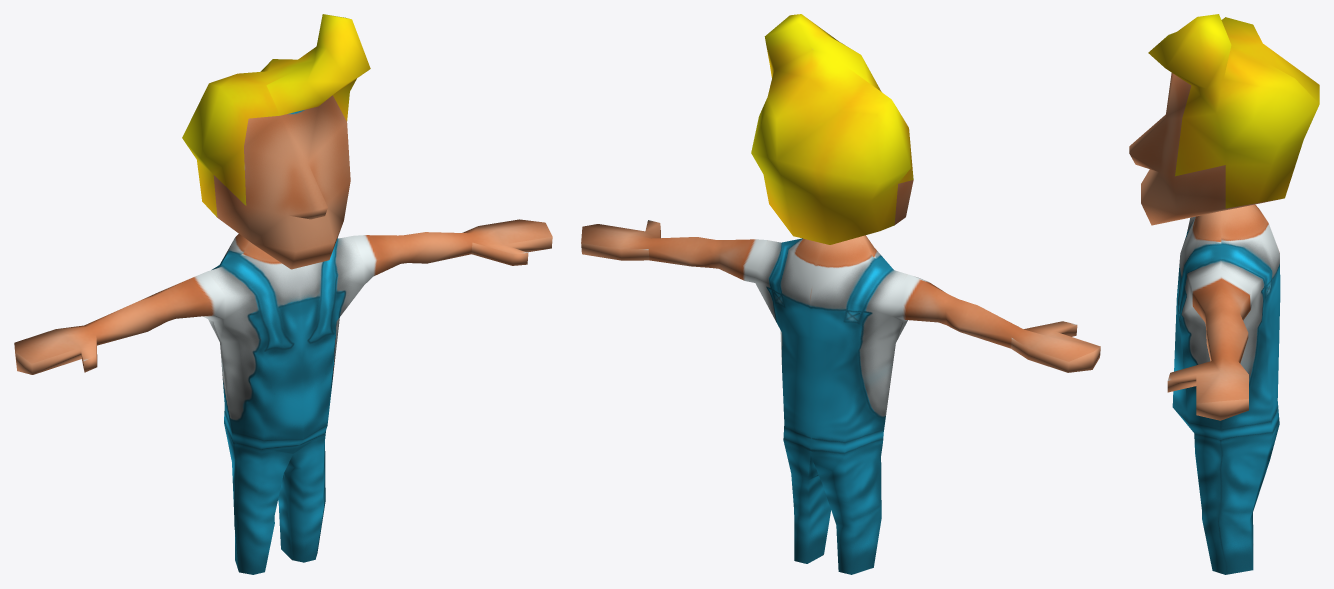
Rendered from HD_Family_Daddy_1x1_Mesh_Tekstur_001.FBX.
The picture shows the model from 3 angles, left to right: view 1: azimuth 30°, elevation 25°; view 2: azimuth 150°, elevation 25°; view 3: azimuth 270°, elevation 25°; orthographic projection. The views are drawn at different scales.
Visible parts, largest first — view 1: HD_Family_Daddy_1x1_Mesh_; view 2: HD_Family_Daddy_1x1_Mesh_; view 3: HD_Family_Daddy_1x1_Mesh_.
Boxes of the visible parts, x1,y1,x2,y2 form: HD_Family_Daddy_1x1_Mesh_: (14,14,552,574); HD_Family_Daddy_1x1_Mesh_: (581,14,1100,574); HD_Family_Daddy_1x1_Mesh_: (1129,14,1319,574).
Size of the model in its own units: 393 by 384 by 118.
1 material, 1 textured.
